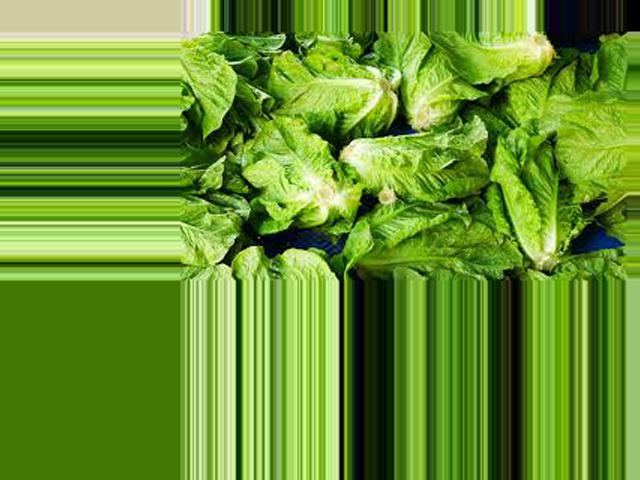lettuce: (425, 32, 574, 88)
